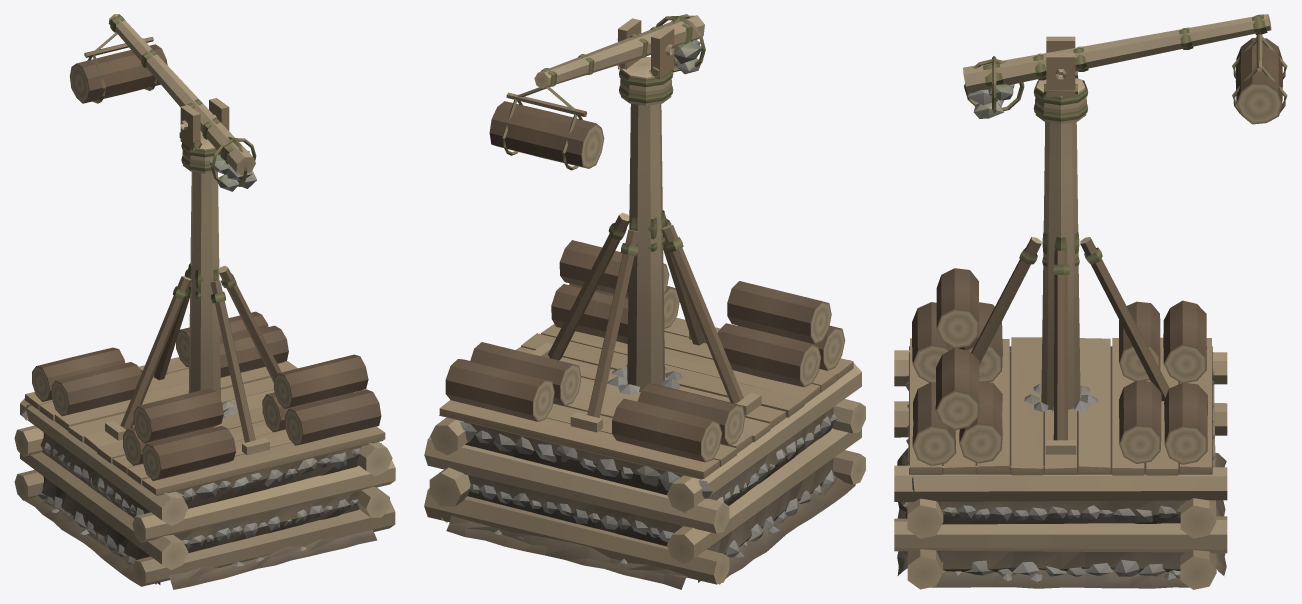
The model's file is drop_tower_a.glb.
3 views of the same model, side by side, from view 1: azimuth 30°, elevation 25°; view 2: azimuth 150°, elevation 25°; view 3: azimuth 270°, elevation 25° (orthographic). The views are drawn at different scales.
Parts seen in each view (by area): view 1: Base, Store3, Pile, Store2, Boom, Load, Turn; view 2: Base, Store3, Store2, Boom, Load, Pile, Turn; view 3: Base, Store3, Boom, Pile, Store2, Turn, Load.
Boxes of the visible parts, x1,y1,x2,y2 form: Base: (14,171,395,589); Store3: (32,311,288,416); Pile: (262,354,381,445); Store2: (123,388,236,480); Boom: (84,14,256,191); Load: (69,44,167,103); Turn: (179,98,229,173); Base: (424,103,865,589); Store3: (445,342,744,462); Store2: (717,281,845,387); Boom: (502,14,705,170); Load: (489,101,604,168); Pile: (551,240,679,343); Turn: (617,18,675,105); Base: (894,122,1227,589); Store3: (1119,300,1207,464); Boom: (963,14,1287,118); Pile: (912,347,1002,465); Store2: (912,268,1002,382); Turn: (1033,36,1088,124); Load: (1235,38,1282,124).
Bounding box in the file's own units: 1.95 × 3.27 × 2.3.
